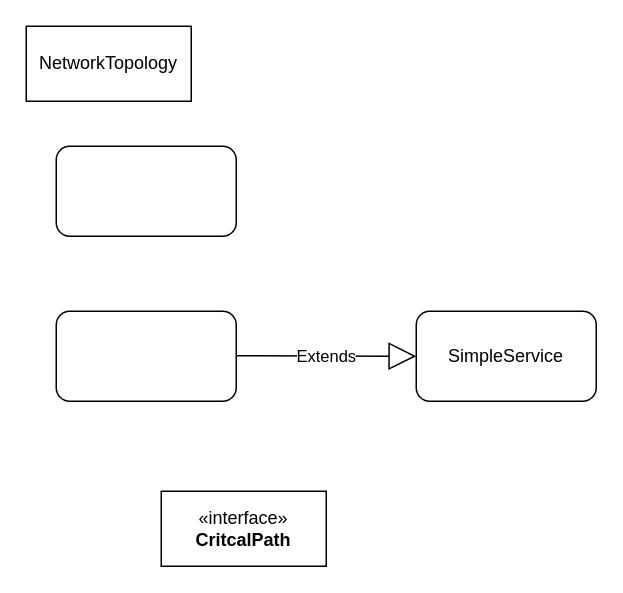
Image size: 623x593. Some labels were removed from this diagram. Here are the shapes that lost their labels. From the top down, the centre of each, then its label:
point (145, 190): ServiceCloudlet
point (145, 355): Service
